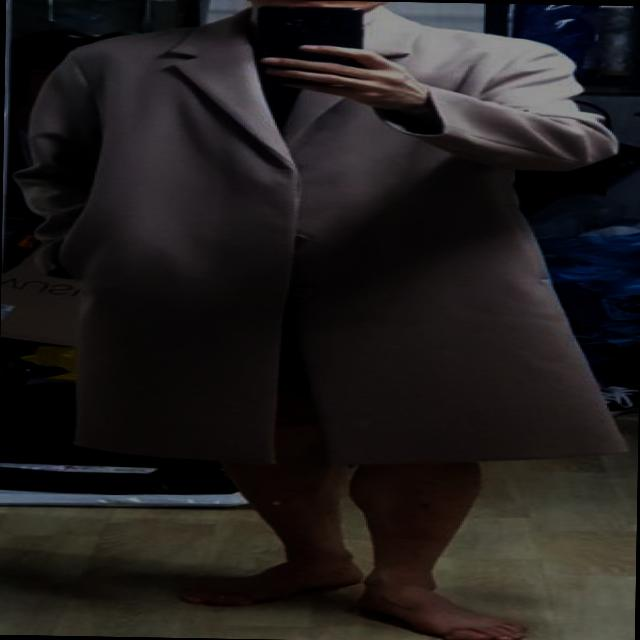coat: (20, 0, 640, 476)
